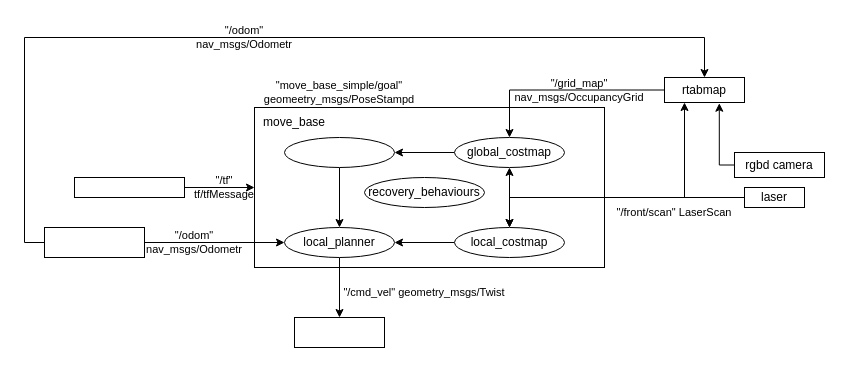
This 842x365 diagram has some shape labels left out. The shapes that lost their labels are listed below. From the top down, each one's box as (x1, y1, x2, y2) in pixels, then its label:
(284, 136, 394, 168): global_planner
(74, 176, 184, 198): urdf transformation
(44, 226, 144, 258): gazebo odometry
(294, 316, 384, 348): base controller
